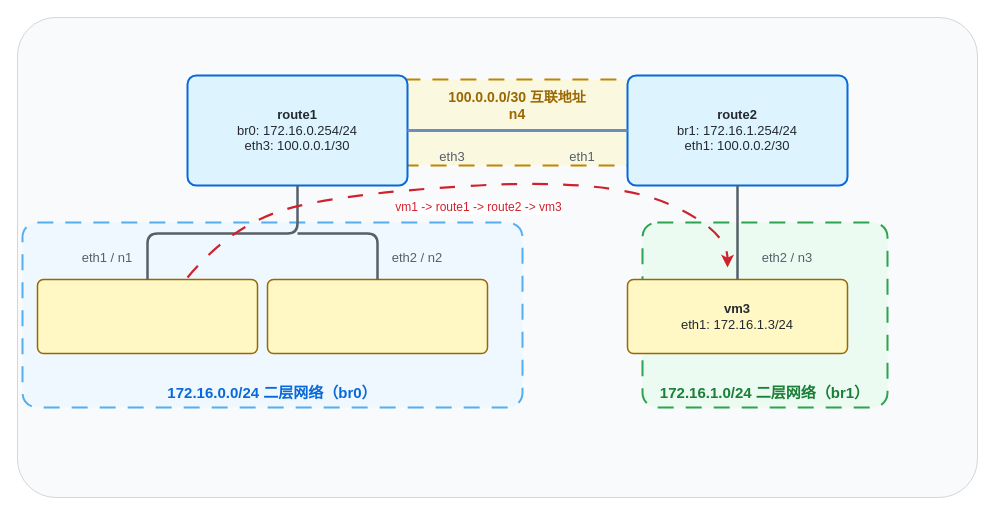
Image size: 995x515. Some labels were removed from this diagram. The centre of each missing label's shape, as x and y in pixels:
"vm1 eth1: 172.16.0.1/24" belongs at pixel 147 316.
"vm2 eth1: 172.16.0.2/24" belongs at pixel 377 316.
